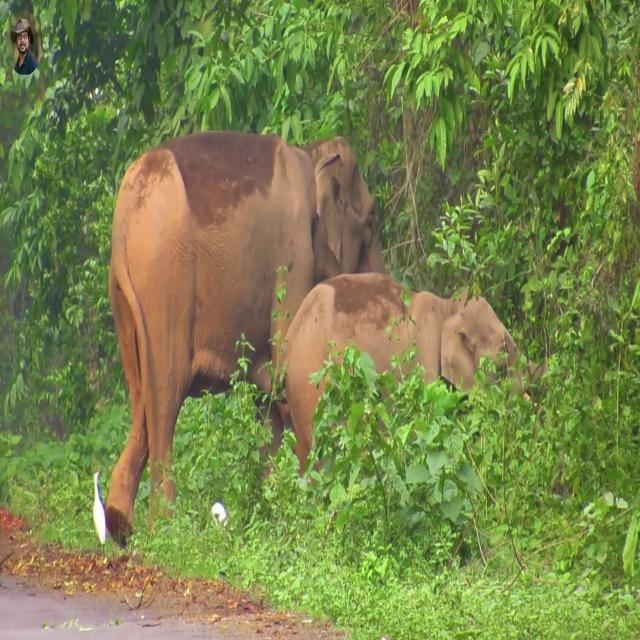Elephant: (102, 130, 387, 550), (272, 271, 550, 492)
